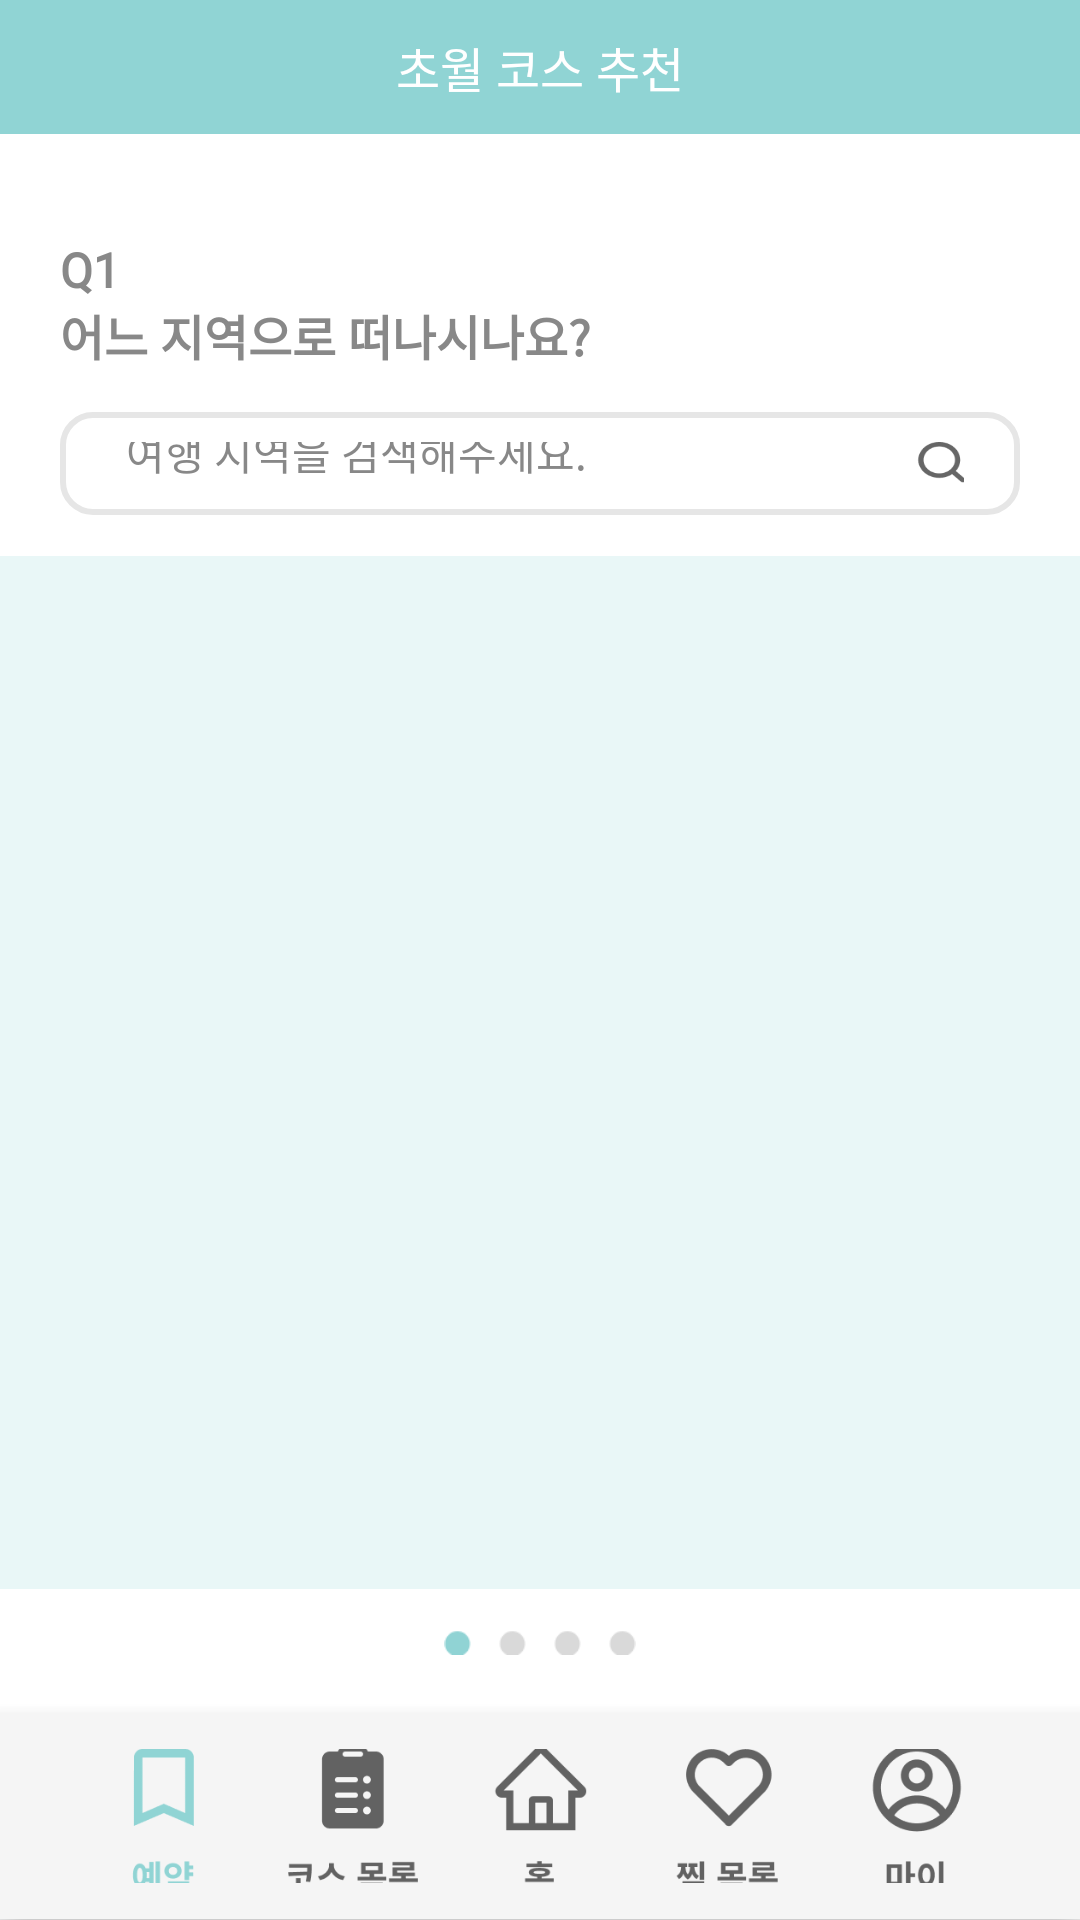

Icon bounding boxes for this 1080w x 1920h phone screenshot, format (x1=x1, y1=y1, x2=x2, y2=y2):
search: (x1=918, y1=442, x2=964, y2=483)
